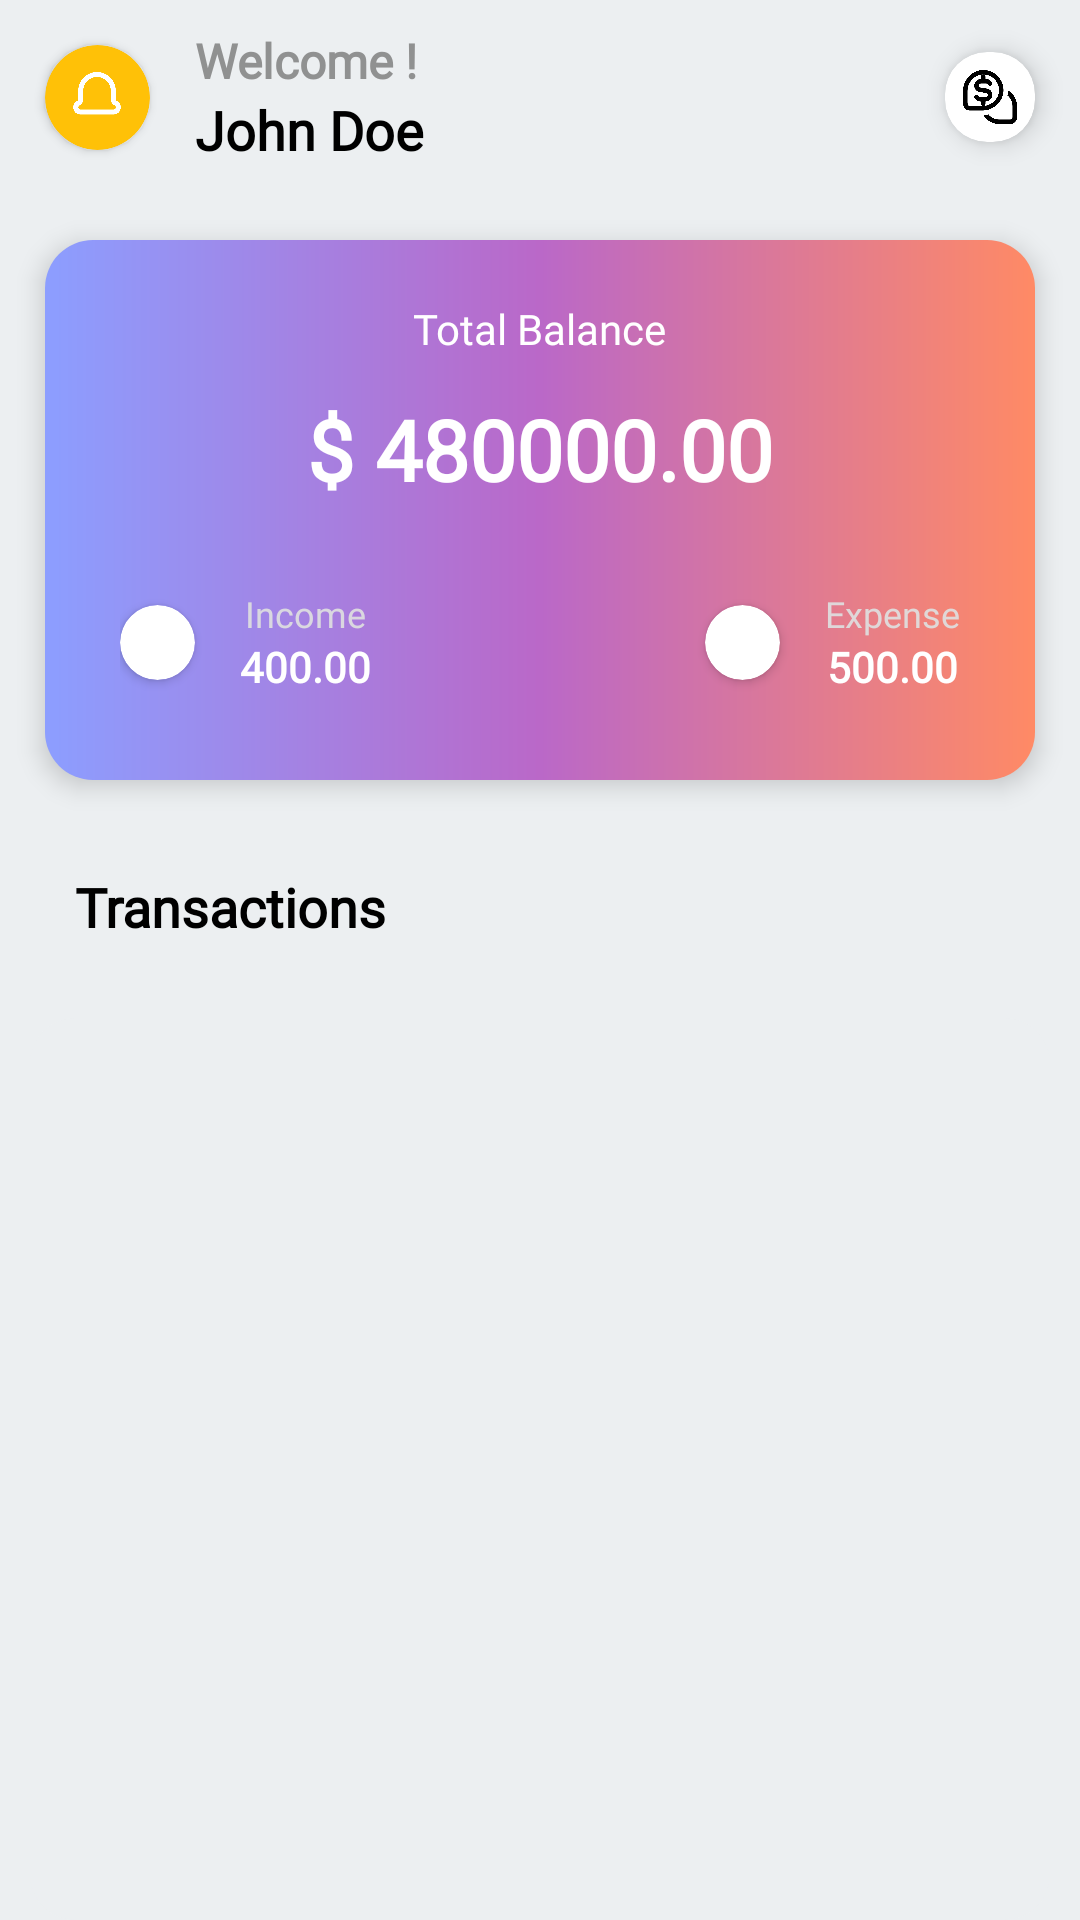

Icon bounding boxes for this 1080w x 1920h phone screenshot, format (x1, y1, x2, y2):
comments dollar: (963, 70, 1017, 124)
notification: (73, 72, 121, 115)
